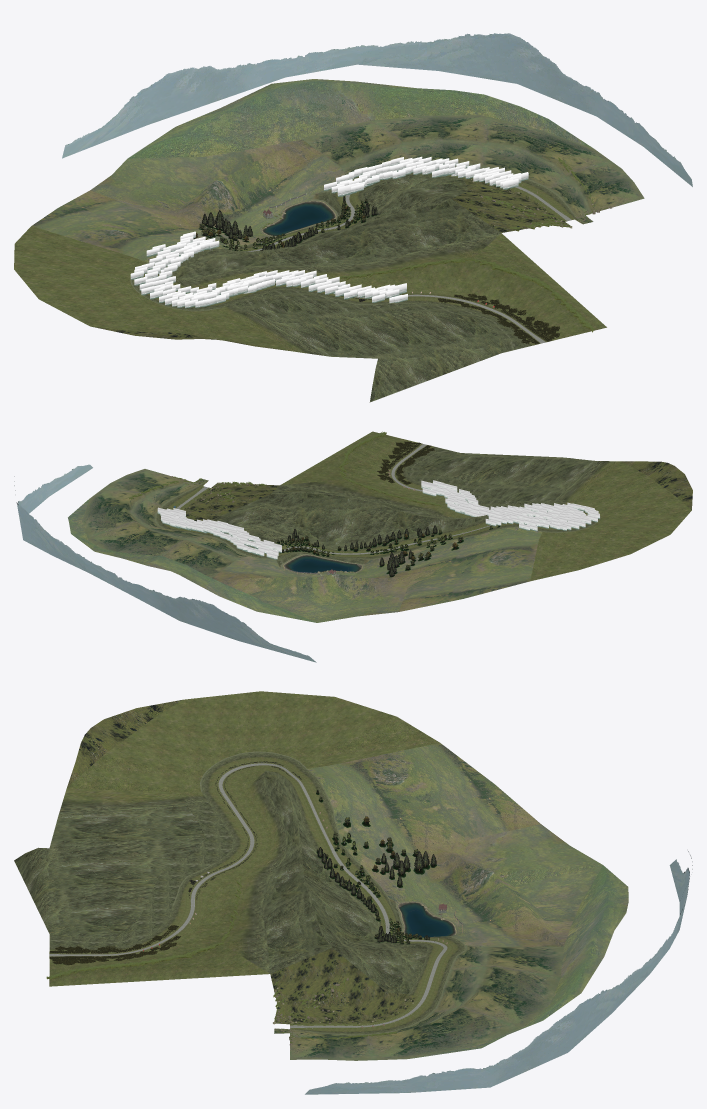
File: stage-clou.glb
3 views of the same model, one above another, from view 1: azimuth 30°, elevation 25°; view 2: azimuth 150°, elevation 25°; view 3: azimuth 270°, elevation 25° (orthographic). The views are drawn at different scales.
Visible parts, largest first — view 1: part 1, part 4, part 7, part 5, part 0; view 2: part 1, part 4, part 7, part 5, part 0; view 3: part 1, part 4, part 0, part 7, part 5.
Part boxes in pixels (x1,y1,x2,y2): part 1: (14,33,692,402); part 4: (193,184,571,344); part 7: (172,157,611,332); part 5: (260,200,338,237); part 0: (160,186,572,343); part 1: (14,431,692,662); part 4: (175,441,500,577); part 7: (129,431,501,575); part 5: (280,554,364,574); part 0: (175,443,549,554); part 1: (14,691,692,1094); part 4: (49,761,440,1029); part 0: (49,763,448,1028); part 7: (46,770,462,1044); part 5: (396,901,458,937).
Bounding box in the file's own units: 3633 × 419 × 3074.
Materials: 63 (62 with a texture image).
